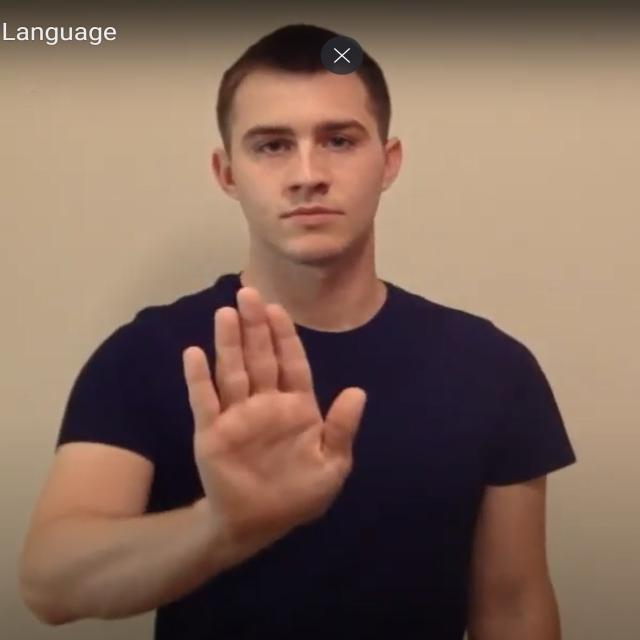your: (184, 287, 368, 527)
